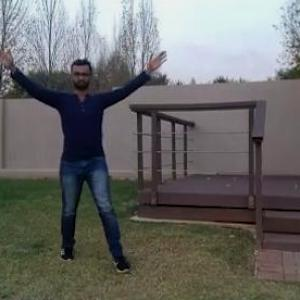takeoff: (0, 43, 170, 274)
